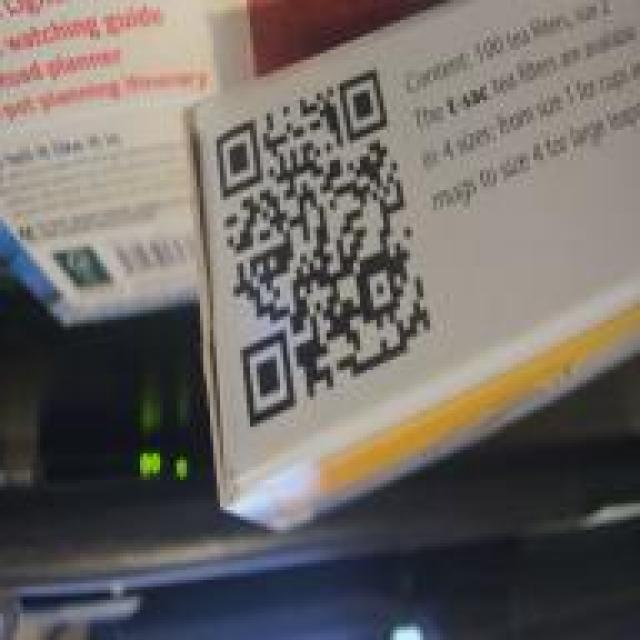qr_code: (216, 68, 433, 429)
